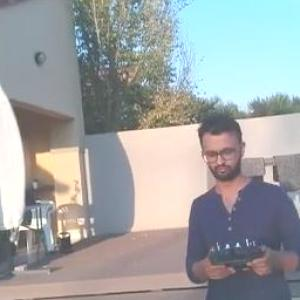follow: (180, 103, 300, 299)
